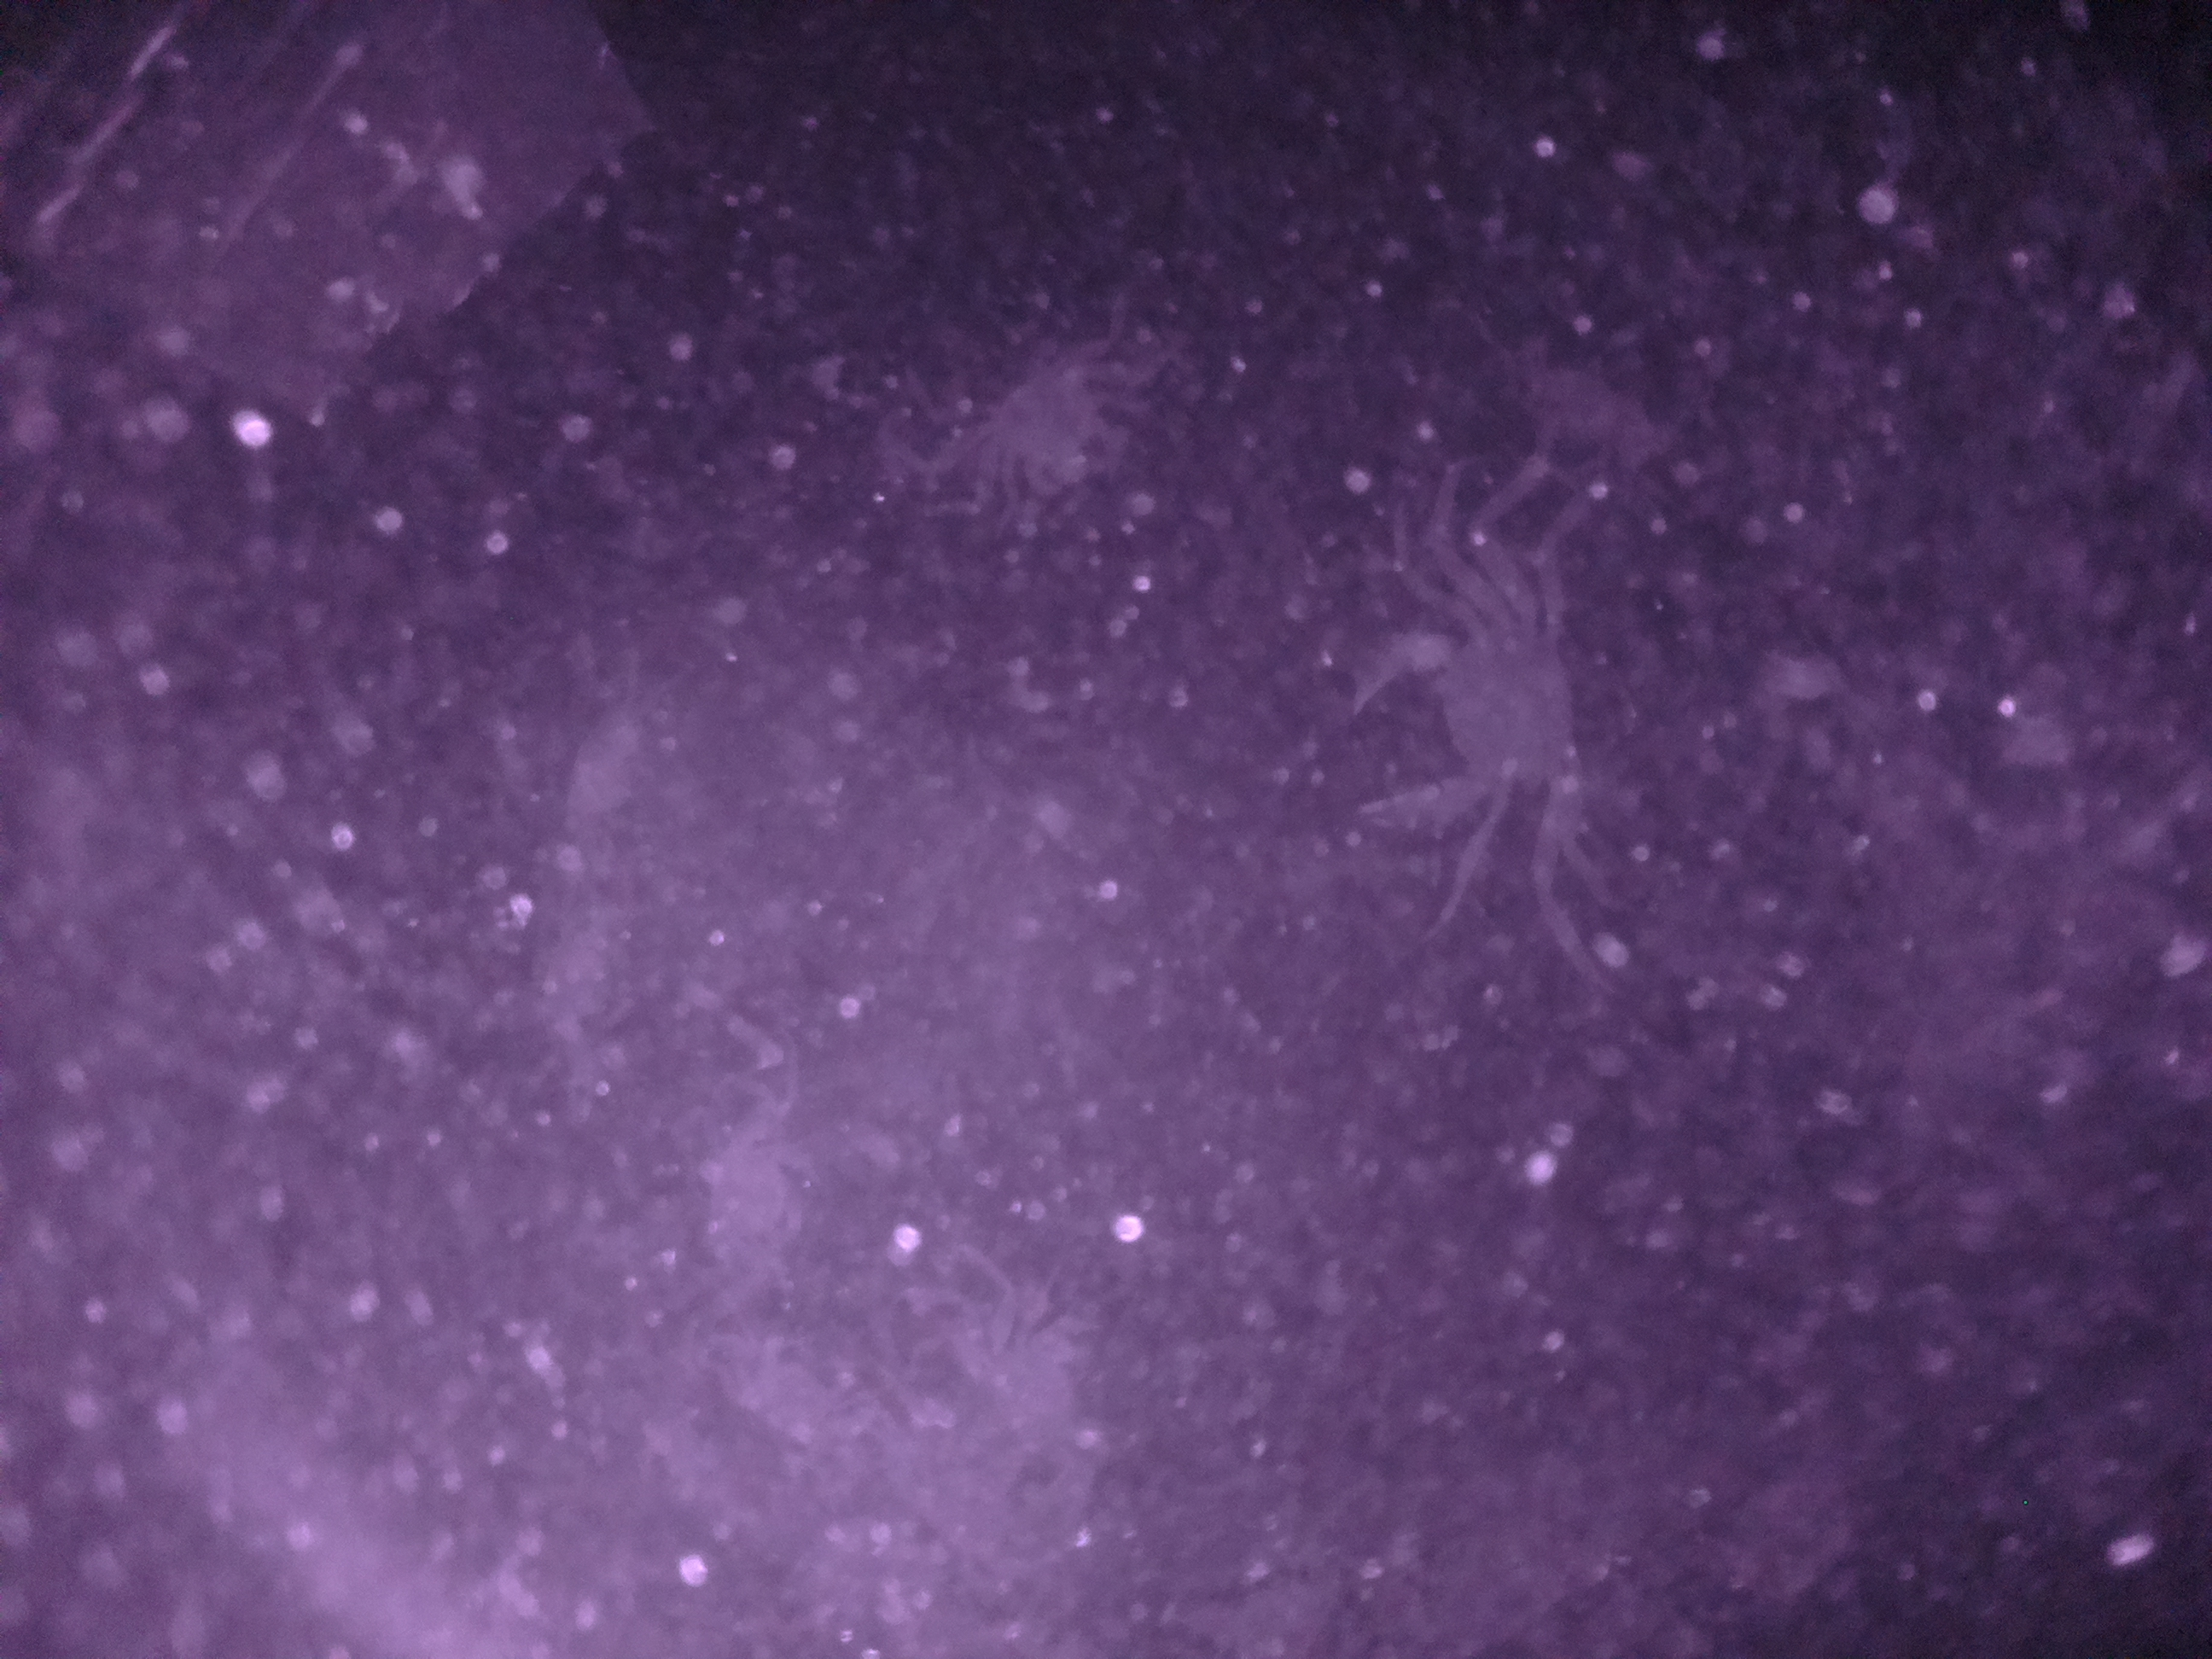Crab: (1334, 580, 1627, 861)
